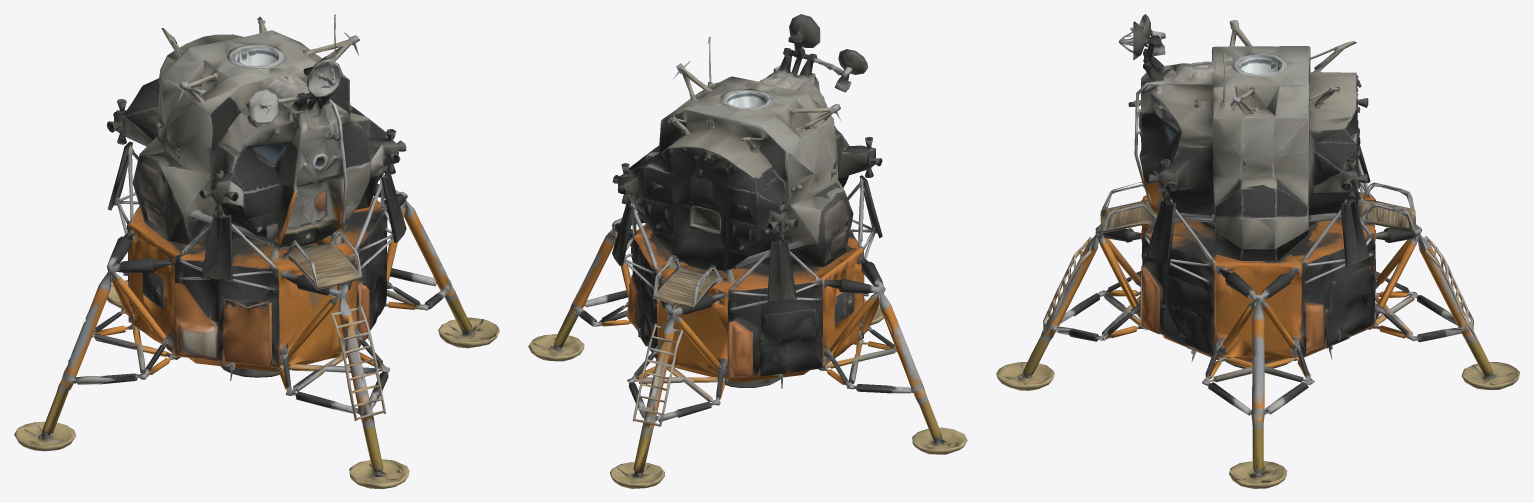
3 views of the same model, side by side, from view 1: azimuth 30°, elevation 25°; view 2: azimuth 150°, elevation 25°; view 3: azimuth 270°, elevation 25° (orthographic). The views are drawn at different scales.
Visible parts, largest first — view 1: tripo_node_7ce5b07a-24fe-4390-9d98-eedff0c2dcf0; view 2: tripo_node_7ce5b07a-24fe-4390-9d98-eedff0c2dcf0; view 3: tripo_node_7ce5b07a-24fe-4390-9d98-eedff0c2dcf0.
Part boxes in pixels (x1,y1,x2,y2): tripo_node_7ce5b07a-24fe-4390-9d98-eedff0c2dcf0: (14,14,499,488); tripo_node_7ce5b07a-24fe-4390-9d98-eedff0c2dcf0: (528,14,967,488); tripo_node_7ce5b07a-24fe-4390-9d98-eedff0c2dcf0: (996,14,1519,488).
Bounding box in the file's own units: 9.17 × 7 × 9.16.
1 material, 1 textured.
